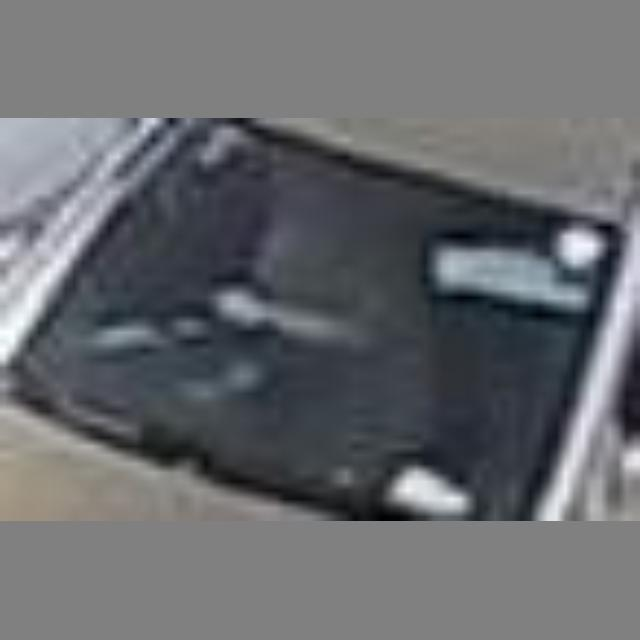tidak-pakai: (219, 188, 412, 416)
